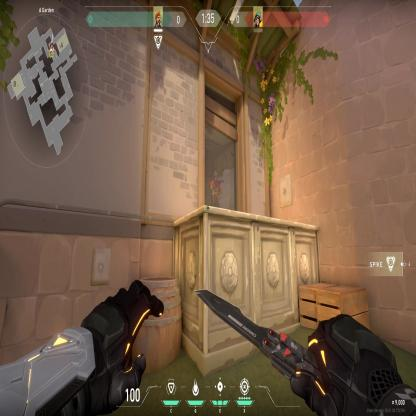enemy: (208, 168, 222, 208)
